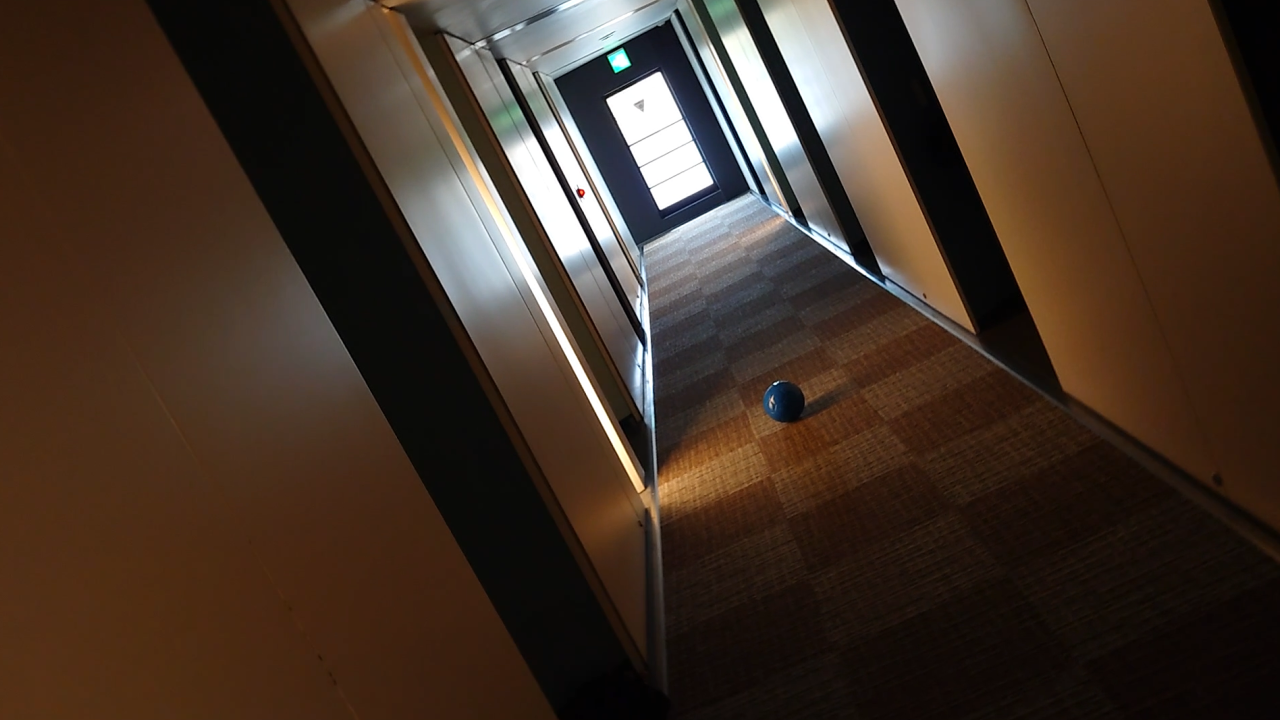blue: (763, 376, 808, 422)
